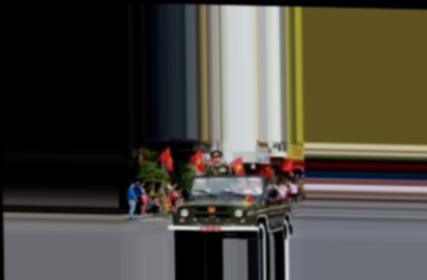License_Plate: (198, 224, 222, 234)
